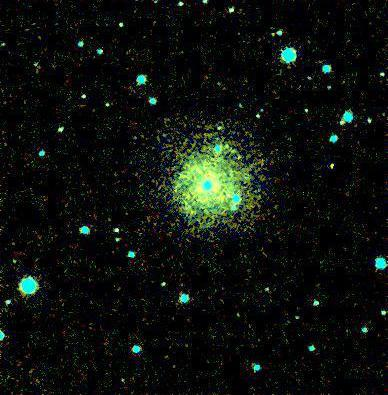star: (321, 152, 351, 182)
